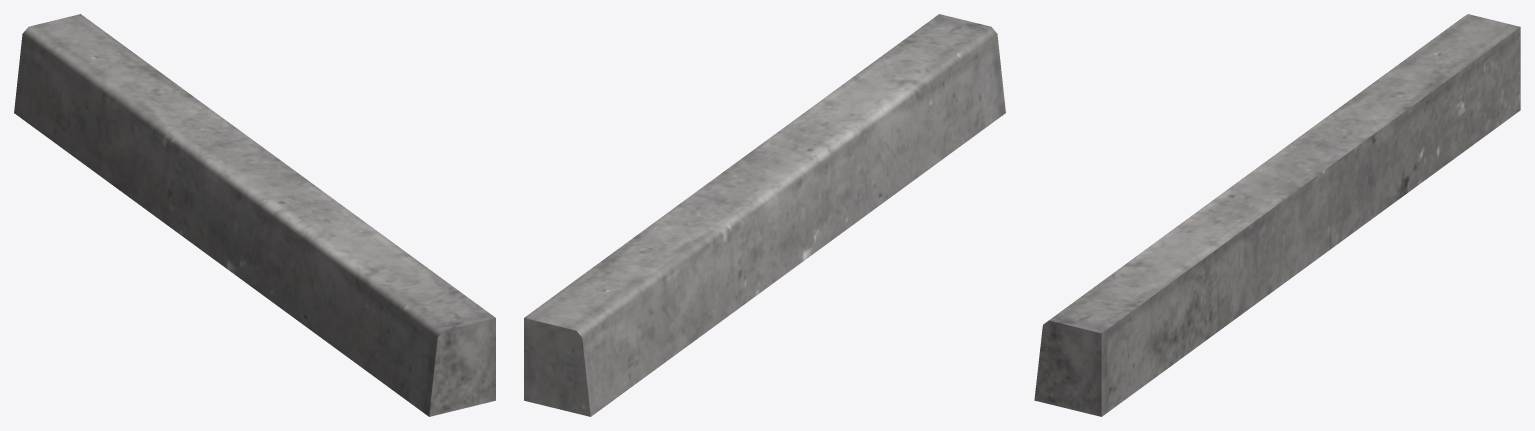
The model's file is MB_Curbstone_1m.fbx.
3 views of the same model, side by side, from view 1: azimuth 30°, elevation 25°; view 2: azimuth 150°, elevation 25°; view 3: azimuth 330°, elevation 25° (orthographic).
Parts seen in each view (by area): view 1: MB_Curbstone_1m; view 2: MB_Curbstone_1m; view 3: MB_Curbstone_1m.
Part boxes in pixels (bbox=[...]): MB_Curbstone_1m: bbox=[14, 14, 495, 416]; MB_Curbstone_1m: bbox=[524, 14, 1005, 416]; MB_Curbstone_1m: bbox=[1034, 14, 1520, 416].
Size of the model in its own units: 9.28 by 11 by 100.
